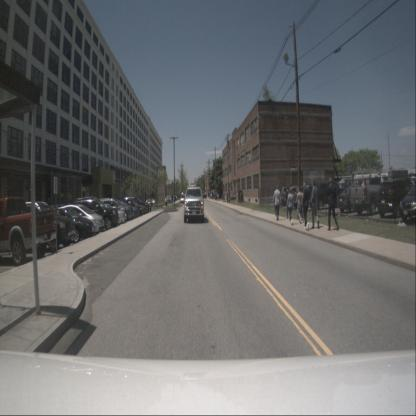human-pedestrian-adult: (327, 177, 339, 231), (309, 180, 319, 229), (272, 185, 283, 221), (302, 180, 309, 231), (286, 188, 294, 226), (294, 186, 302, 224), (284, 185, 292, 219)
vehicle-car: (0, 200, 76, 251), (38, 208, 95, 244), (71, 198, 119, 232), (56, 204, 105, 236), (377, 178, 415, 219), (336, 186, 374, 212), (96, 197, 132, 222), (399, 182, 416, 224), (108, 198, 139, 221), (118, 197, 146, 215)
vehicle-truck: (0, 195, 58, 267), (350, 174, 395, 216), (306, 182, 345, 210), (184, 186, 204, 223)
